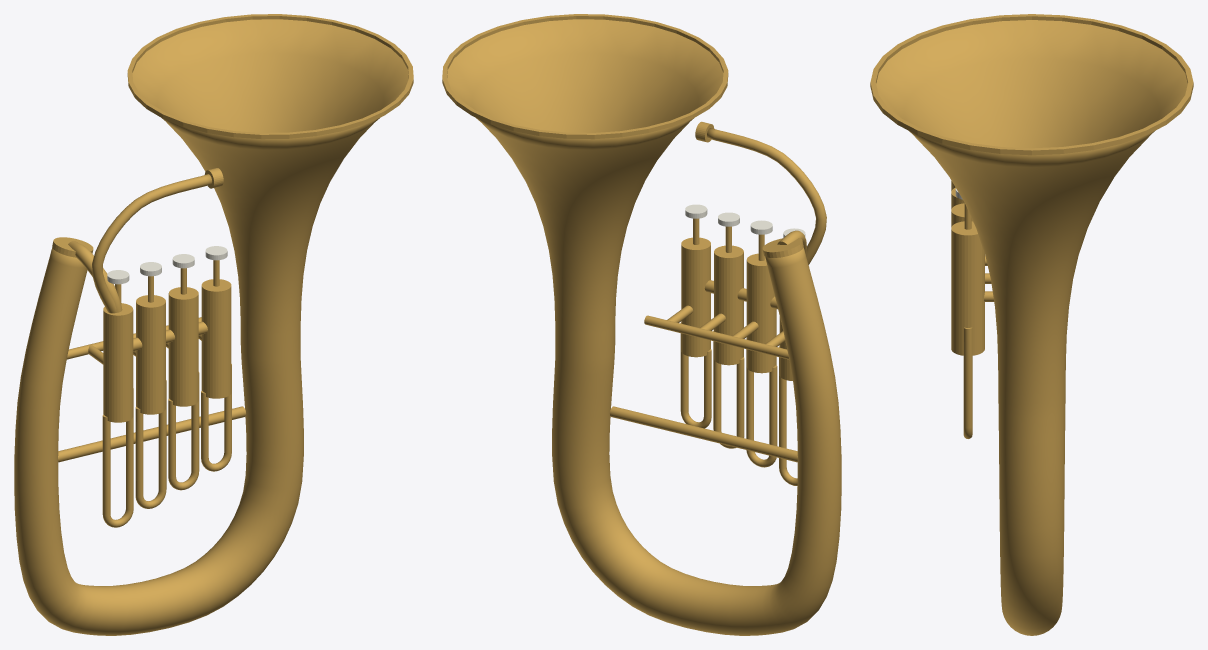
The model's file is A-NEW-20261026-TUBA-001_LOD1_R6.glb.
3 views of the same model, side by side, from view 1: azimuth 30°, elevation 25°; view 2: azimuth 150°, elevation 25°; view 3: azimuth 270°, elevation 25° (orthographic). The views are drawn at different scales.
Parts seen in each view (by area): view 1: main bow and open bell, rolled bell lip, valve casing 3, valve casing 2, valve casing 0, valve casing 1, open lead pipe, closed tuning loop 0, closed tuning loop 1, closed tuning loop 2, bell bow brace, closed tuning loop 3 (+1 smaller); view 2: main bow and open bell, rolled bell lip, valve casing 3, valve casing 2, valve casing 1, bell bow brace, open lead pipe, closed tuning loop 1, bank support crossbar, closed tuning loop 2, closed tuning loop 3, closed tuning loop 0 (+1 smaller); view 3: main bow and open bell, rolled bell lip, valve casing 3, closed tuning loop 3.
Boxes of the visible parts, <box> form: main bow and open bell: <box>14,19,408,635</box>; rolled bell lip: <box>127,14,413,139</box>; valve casing 3: <box>201,279,231,398</box>; valve casing 2: <box>168,287,198,406</box>; valve casing 0: <box>103,303,133,422</box>; valve casing 1: <box>136,295,165,414</box>; open lead pipe: <box>92,174,211,313</box>; closed tuning loop 0: <box>102,388,133,527</box>; closed tuning loop 1: <box>135,380,166,508</box>; closed tuning loop 2: <box>168,372,199,490</box>; bell bow brace: <box>58,406,245,462</box>; closed tuning loop 3: <box>201,364,231,471</box>; main bow and open bell: <box>447,19,841,635</box>; rolled bell lip: <box>442,14,728,139</box>; valve casing 3: <box>681,237,710,357</box>; valve casing 2: <box>714,245,743,365</box>; valve casing 1: <box>746,253,776,373</box>; bell bow brace: <box>610,406,797,462</box>; open lead pipe: <box>707,128,826,264</box>; closed tuning loop 1: <box>746,338,777,467</box>; bank support crossbar: <box>644,315,789,359</box>; closed tuning loop 2: <box>713,330,744,448</box>; closed tuning loop 3: <box>680,322,711,428</box>; closed tuning loop 0: <box>779,346,797,486</box>; main bow and open bell: <box>876,20,1187,635</box>; rolled bell lip: <box>870,14,1193,155</box>; valve casing 3: <box>951,221,984,355</box>; closed tuning loop 3: <box>963,327,972,438</box>.
Size of the model in its own units: 0.5537 by 0.7364 by 0.364.
